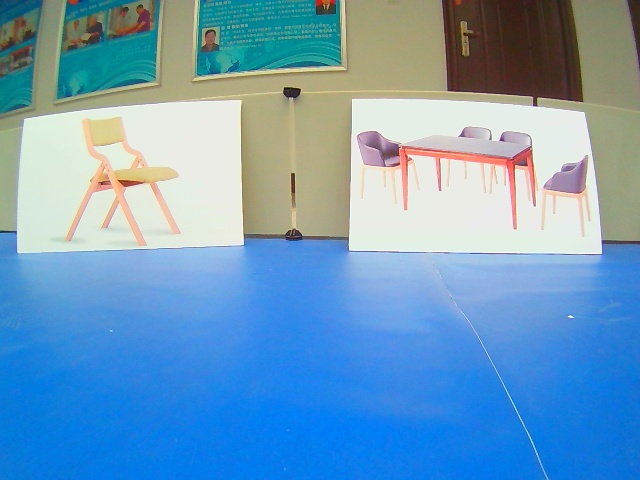table: (350, 97, 604, 256), (16, 100, 247, 254)
